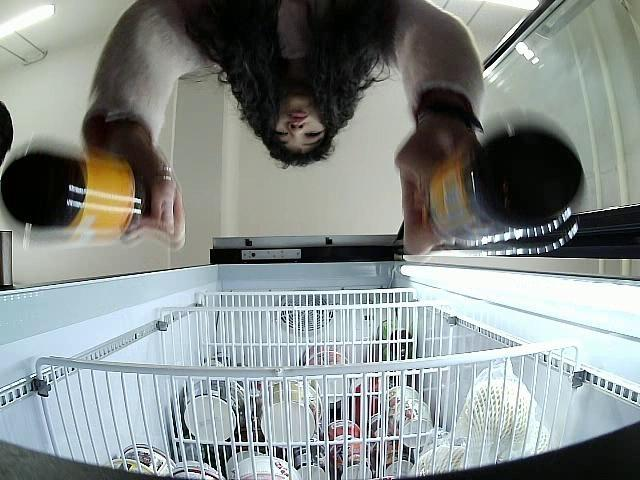17_vita500: (421, 121, 586, 258), (0, 148, 153, 243)
